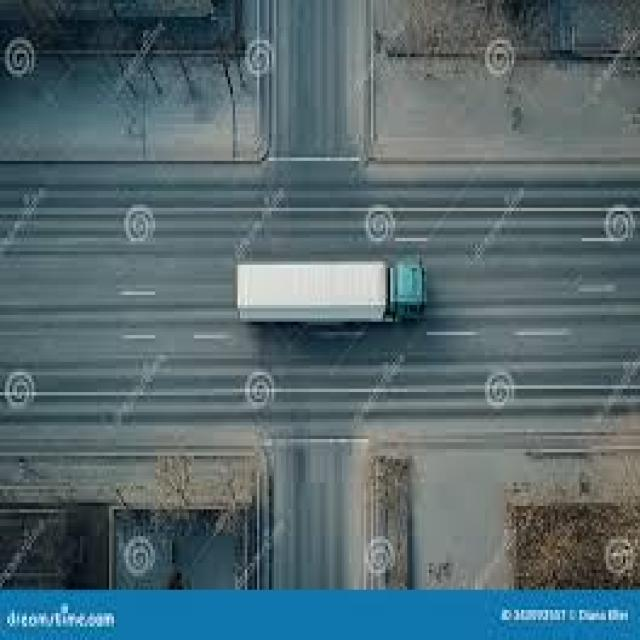truck: (234, 258, 431, 326)
